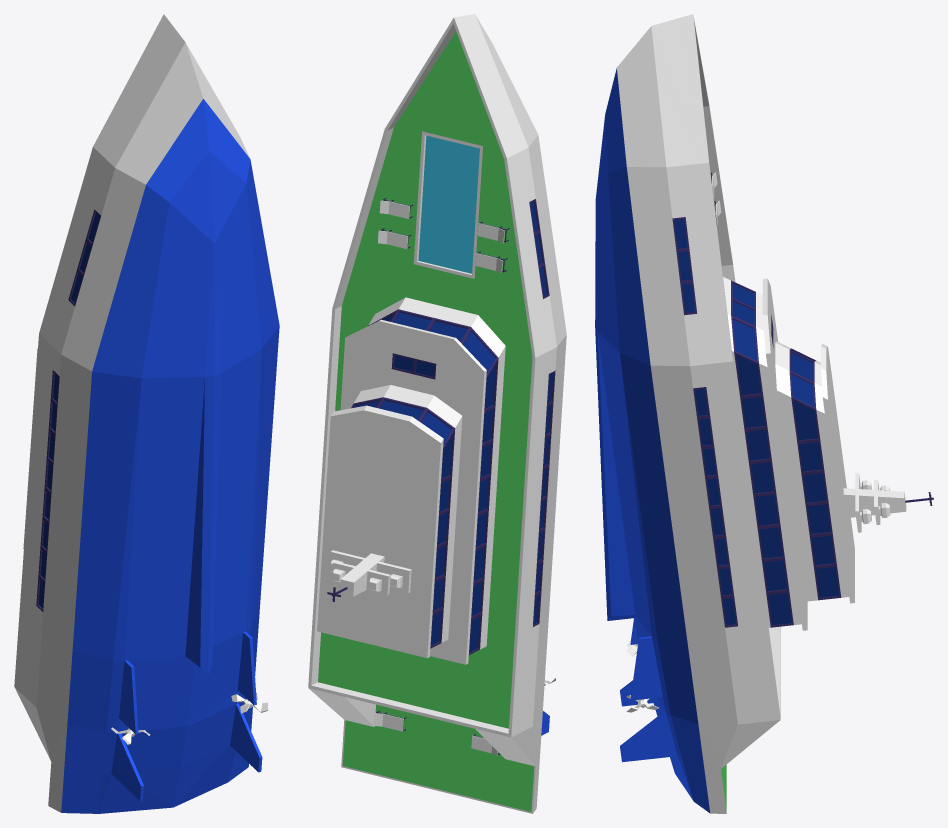
File: 039_Yacht.fbx
3 renders of one model, left to right at view 1: azimuth 30°, elevation 25°; view 2: azimuth 150°, elevation 25°; view 3: azimuth 270°, elevation 25°, orthographic. The views are drawn at different scales.
Parts seen in each view (by area): view 1: YACHT; view 2: YACHT; view 3: YACHT.
Part boxes in pixels (x1,y1,x2,y2): YACHT: [14, 14, 279, 813]; YACHT: [308, 14, 566, 813]; YACHT: [595, 14, 933, 813].
Size of the model in its own units: 28.3 by 102 by 41.25.
